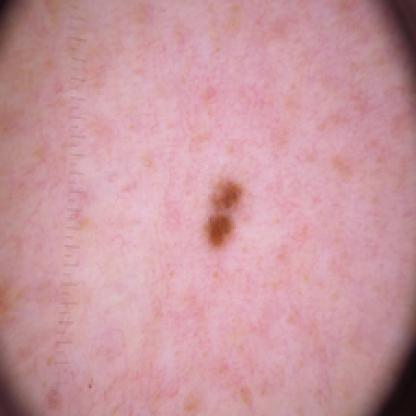benign: (198, 175, 250, 247)
